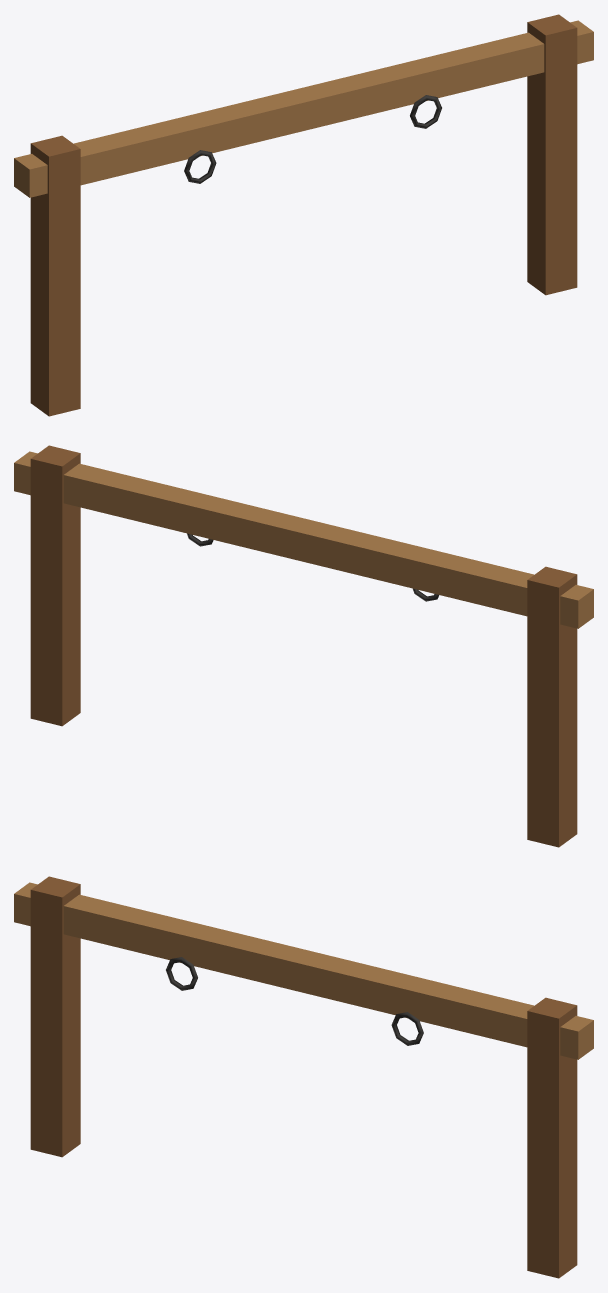
File: hitching_post.glb
The picture shows the model from 3 angles, top to bottom: view 1: azimuth 30°, elevation 25°; view 2: azimuth 150°, elevation 25°; view 3: azimuth 330°, elevation 25°; orthographic projection.
Visible parts, largest first — view 1: hitching_post; view 2: hitching_post; view 3: hitching_post.
Part boxes in pixels (x1,y1,x2,y2): hitching_post: [14, 14, 593, 416]; hitching_post: [14, 445, 593, 847]; hitching_post: [14, 876, 593, 1278].
Size of the model in its own units: 2.5 by 1.1 by 0.1504.
